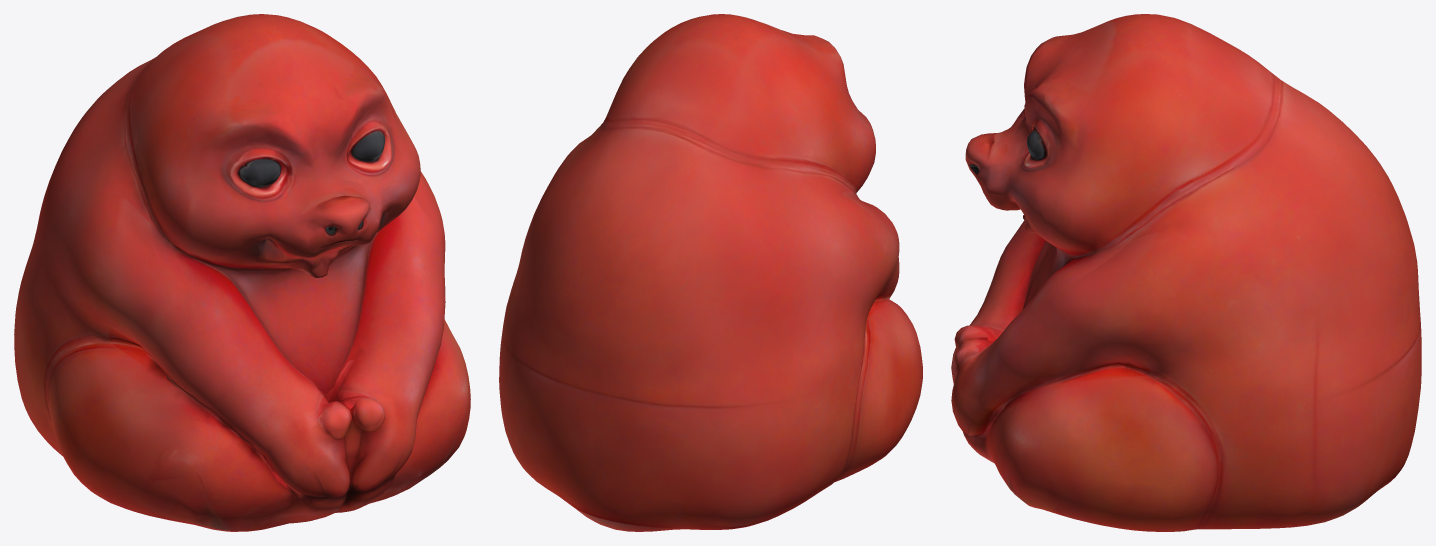
File: smiling-red-blob.glb
The picture shows the model from 3 angles, left to right: view 1: azimuth 30°, elevation 25°; view 2: azimuth 150°, elevation 25°; view 3: azimuth 270°, elevation 25°; orthographic projection. The views are drawn at different scales.
Bounding box in the file's own units: 1.69 × 2 × 1.87.
1 material, 1 textured.
